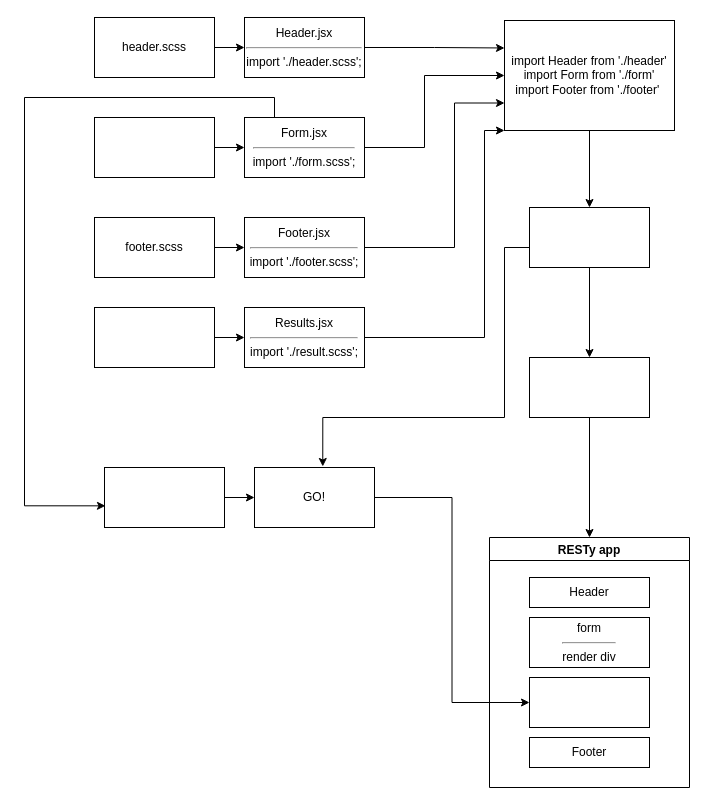
Image size: 707x805. Some labels were removed from this diagram. The shapes that lost their labels are listed below. From the top down, each one's centre as x and y in pixels, then its label:
the point at 154,147: form.scss
the point at 589,237: App.jsx
the point at 154,337: results.scss
the point at 589,387: App.jsx import App from './App';
the point at 164,497: get url
the point at 589,702: result render div
